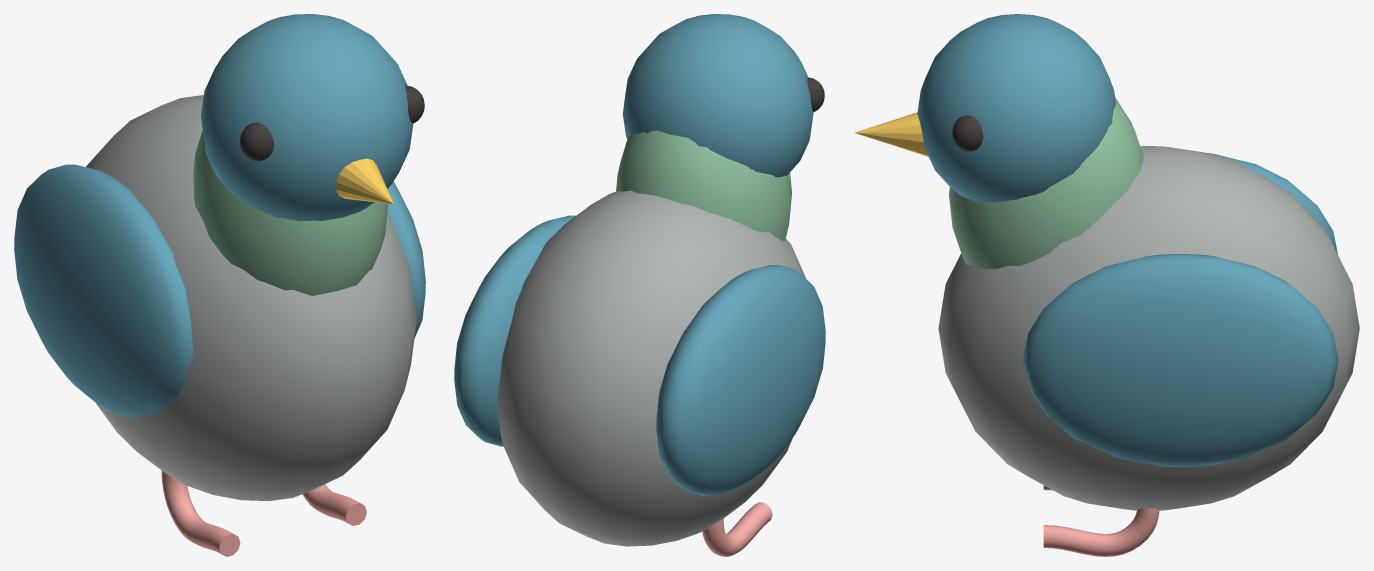
The model's file is pigeon.glb.
3 views of the same model, side by side, from view 1: azimuth 30°, elevation 25°; view 2: azimuth 150°, elevation 25°; view 3: azimuth 270°, elevation 25° (orthographic). The views are drawn at different scales.
Visible parts, largest first — view 1: Pear body, Wing, Head.004, Iridescent neck, Foot, Wing.001, Beak, Foot.001, Eye.008, Eye.009; view 2: Pear body, Wing, Head.004, Iridescent neck, Wing.001, Foot; view 3: Pear body, Wing.001, Head.004, Iridescent neck, Foot.001, Beak, Wing, Eye.009.
Boxes of the visible parts, bbox=[...] form: Pear body: bbox=[86, 95, 416, 501]; Wing: bbox=[14, 164, 193, 418]; Head.004: bbox=[201, 14, 413, 221]; Iridescent neck: bbox=[193, 130, 388, 295]; Foot: bbox=[161, 471, 240, 556]; Wing.001: bbox=[387, 181, 425, 337]; Beak: bbox=[336, 158, 393, 204]; Foot.001: bbox=[302, 484, 366, 525]; Eye.008: bbox=[240, 122, 273, 161]; Eye.009: bbox=[405, 85, 424, 123]; Pear body: bbox=[497, 190, 806, 546]; Wing: bbox=[656, 265, 825, 495]; Head.004: bbox=[622, 14, 813, 177]; Iridescent neck: bbox=[616, 130, 791, 240]; Wing.001: bbox=[454, 215, 575, 446]; Foot: bbox=[702, 502, 772, 556]; Pear body: bbox=[938, 145, 1359, 510]; Wing.001: bbox=[1022, 254, 1338, 467]; Head.004: bbox=[917, 14, 1115, 202]; Iridescent neck: bbox=[949, 98, 1143, 269]; Foot.001: bbox=[1043, 508, 1159, 556]; Beak: bbox=[854, 112, 928, 156]; Wing: bbox=[1208, 153, 1337, 254]; Eye.009: bbox=[952, 115, 983, 151].
Size of the model in its own units: 0.64 by 1.05 by 0.96.
